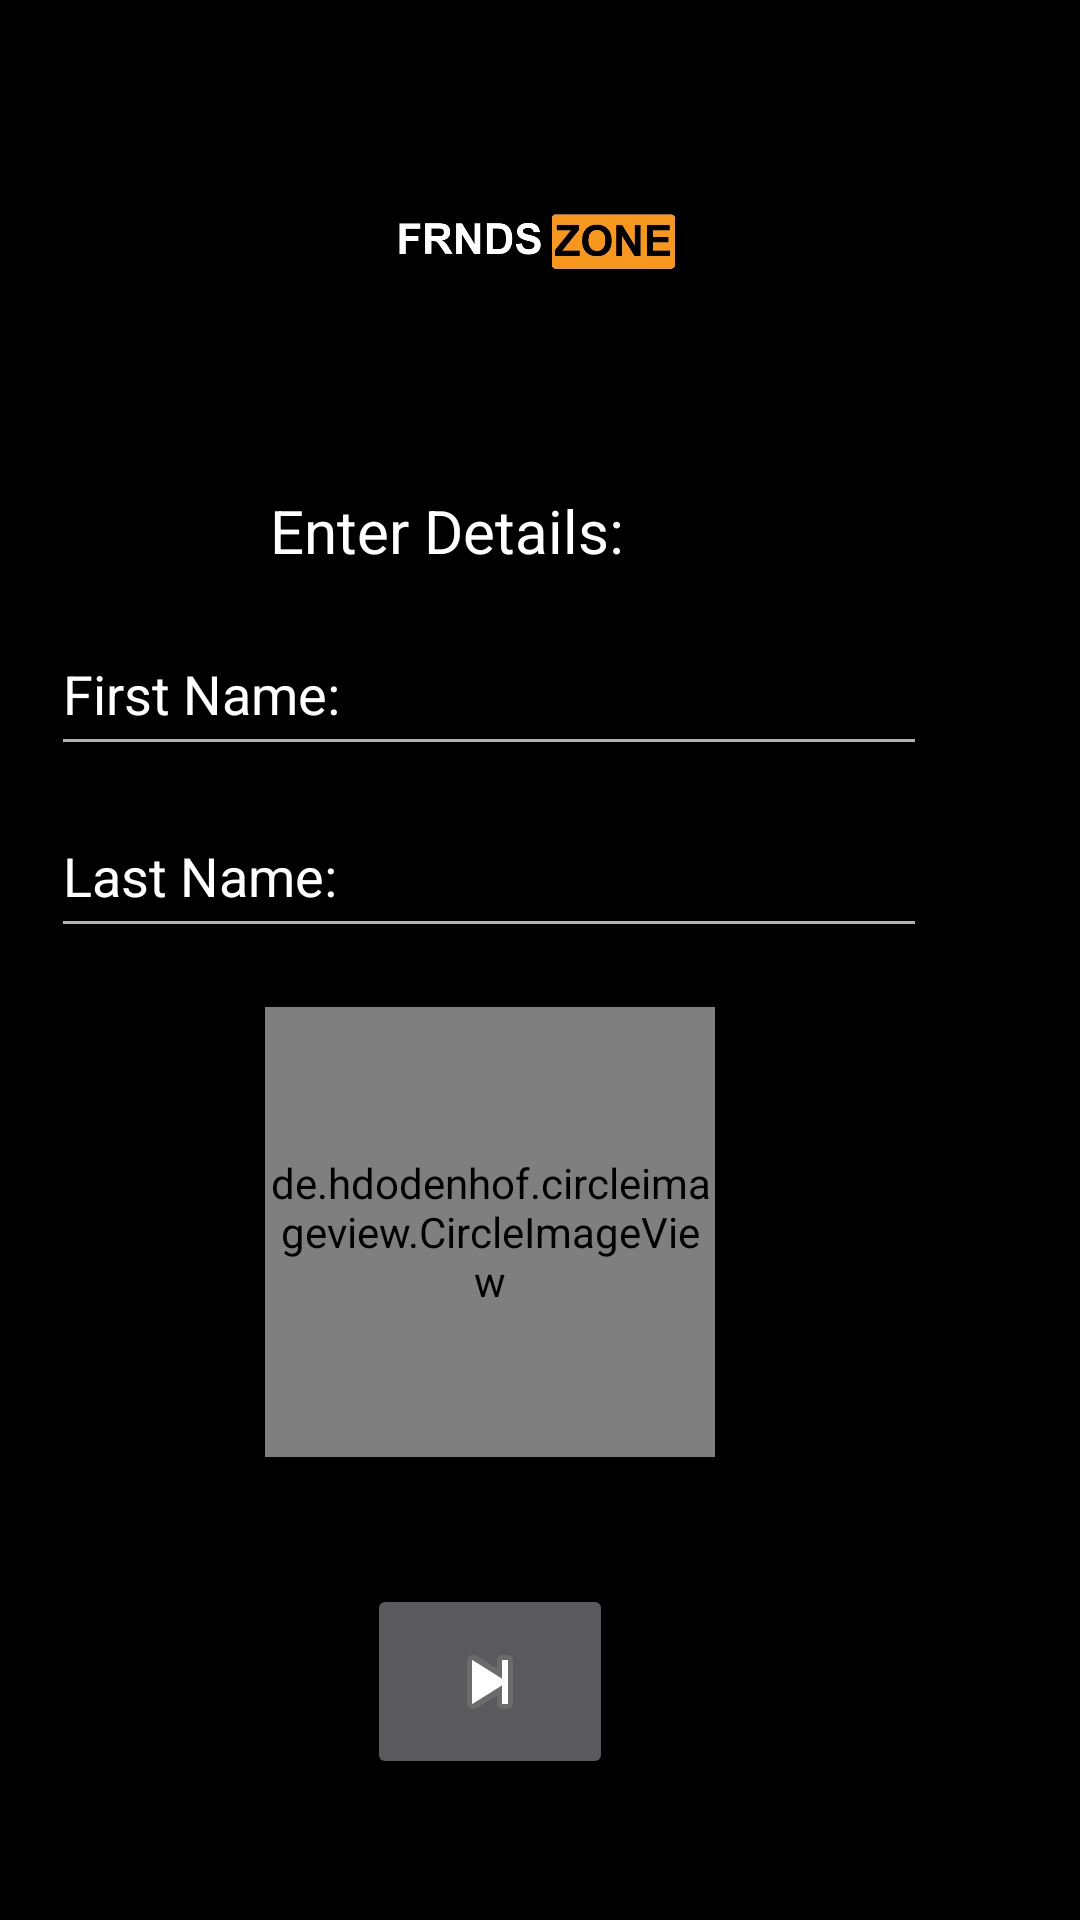

Named icons in this screenshot (1080px x 1920px) and their bounding boxes, box(x1, y1, x2, y2):
next: box(379, 1602, 601, 1761)
